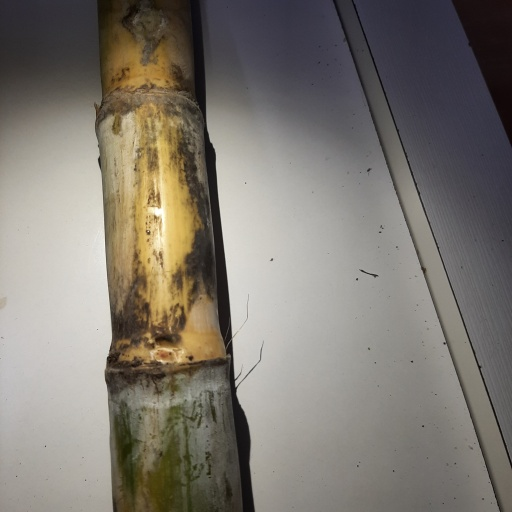Damage_Bud: (150, 335, 181, 366)
